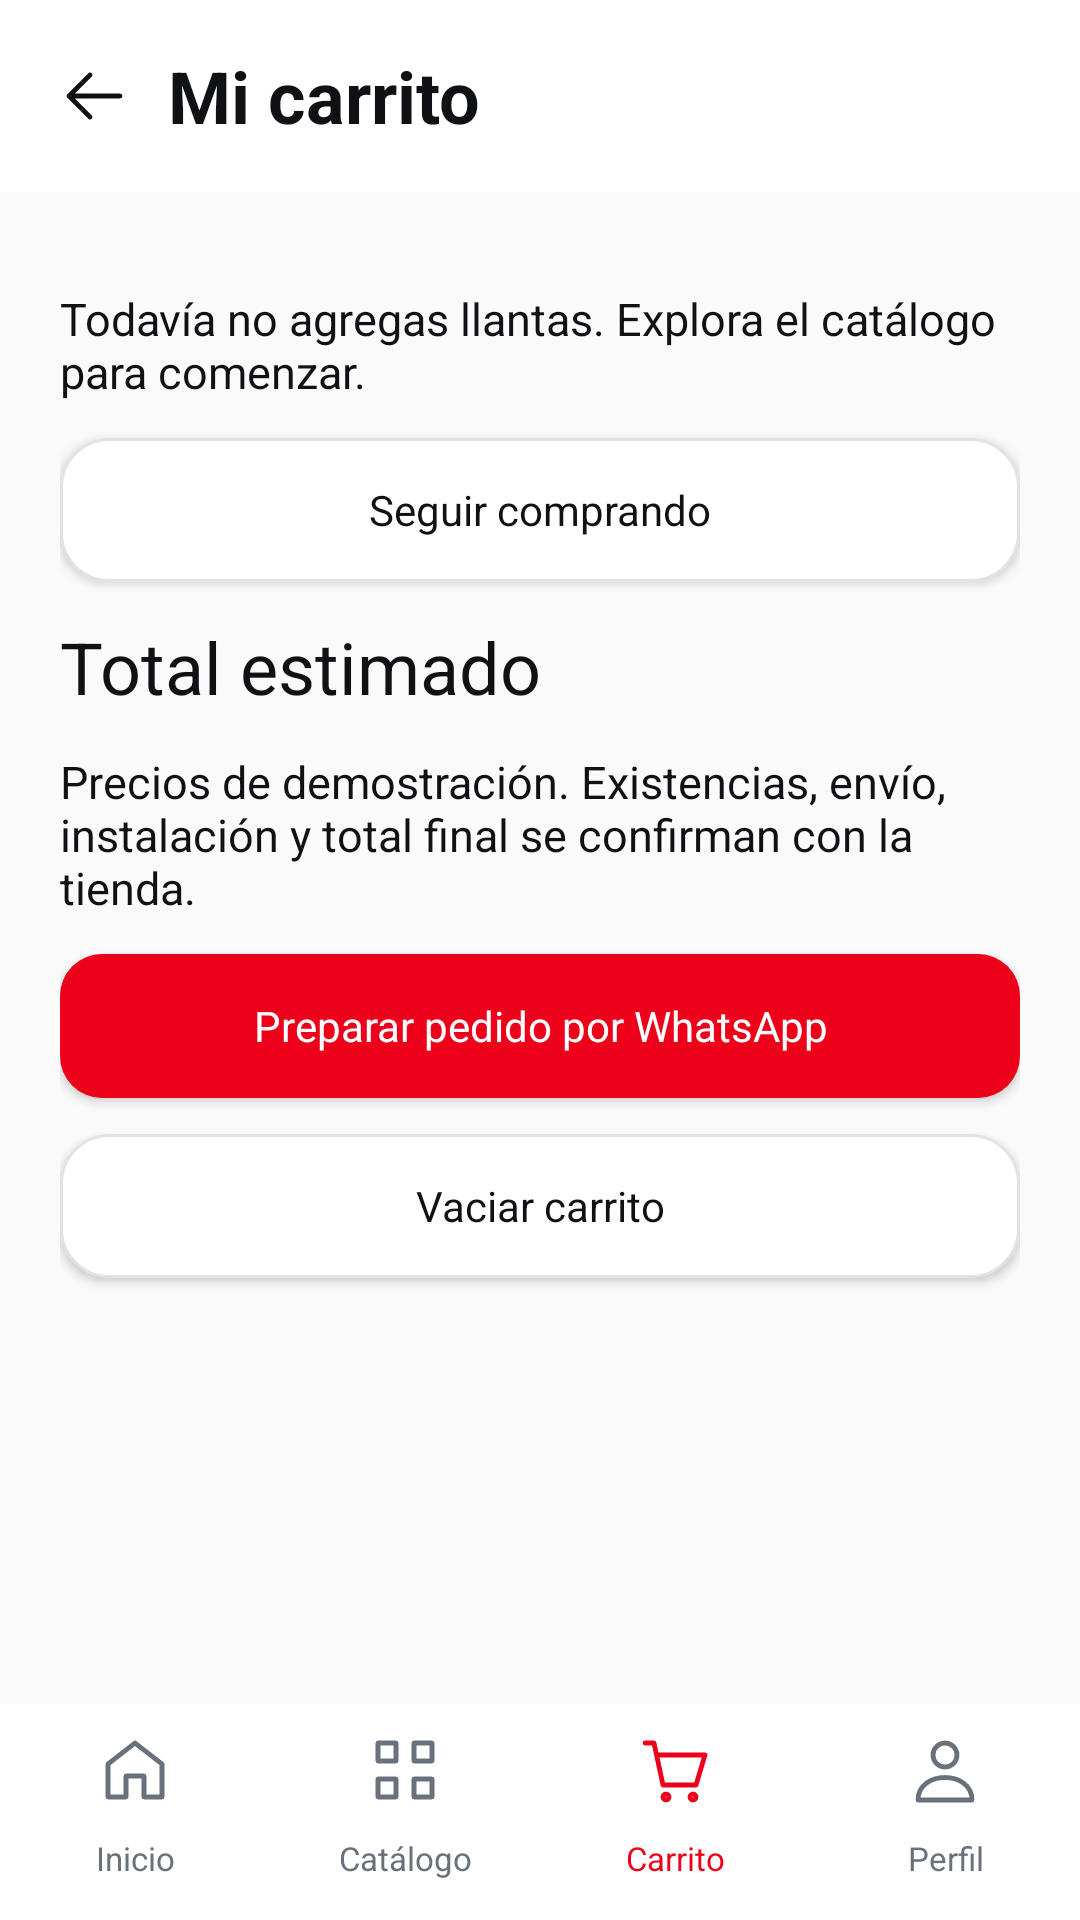

Locate icon controls on the screen. Image size 1080 x 1920, boxes as bbox=(x1, y1, x2, y2).
Volver: bbox=(66, 72, 123, 120)
